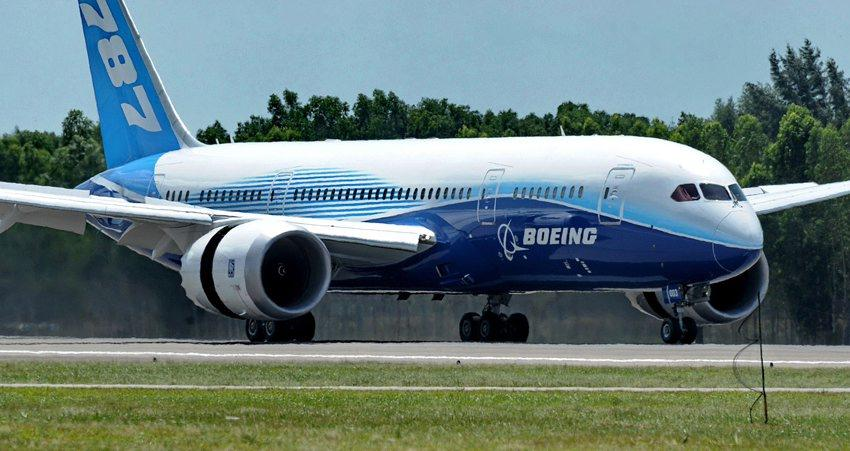airplane: (3, 1, 850, 345)
